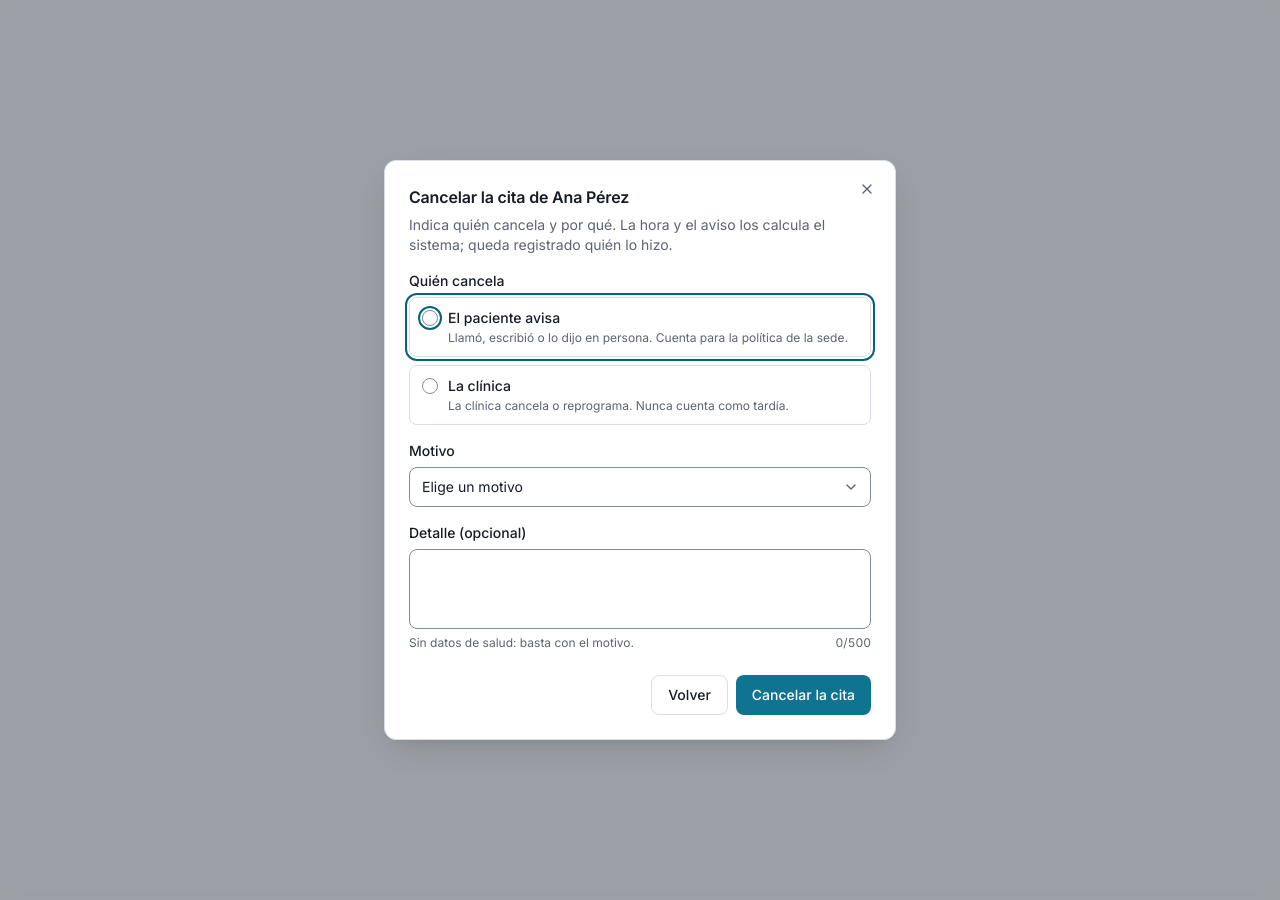
Test: CancelAppointmentDialog (DX-279) › si cancela la clínica no avisa de tardía y propone «La clínica reprograma»
This screenshot has width=1280, height=900.
Click the radio button labelled "La clínica": (430, 386) [422, 378, 438, 394]
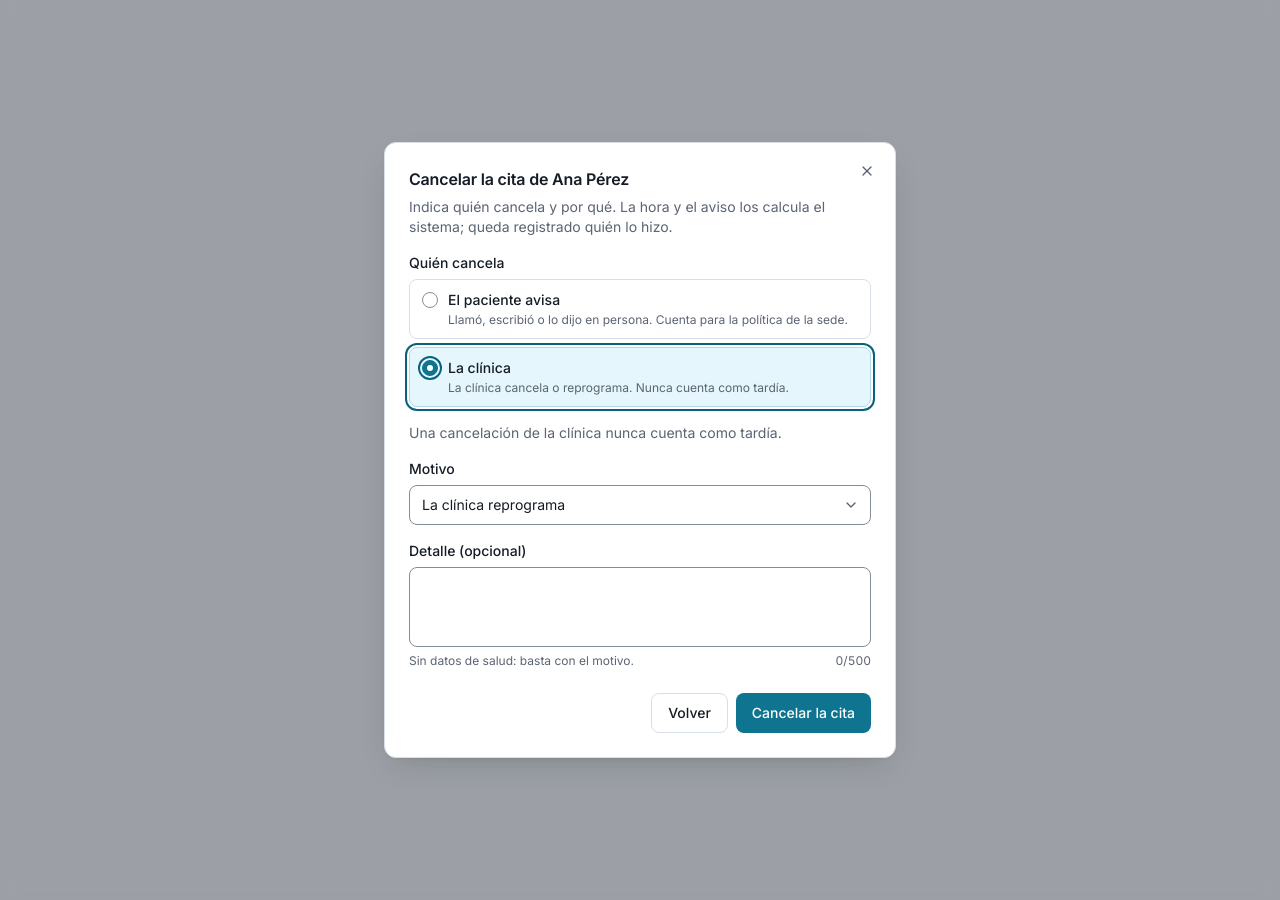
Expected: the text "Una cancelación de la clínica nunca cuenta como tardía." is shown, [409, 424, 782, 441]
Expected: the dropdown labelled "Motivo" shows "La clínica reprograma", [409, 485, 871, 525]
